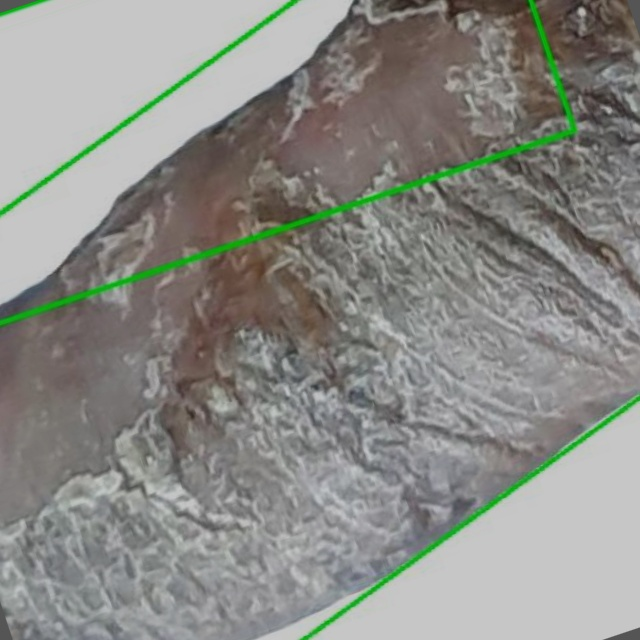Eczema: (0, 0, 639, 639), (0, 0, 574, 323)
